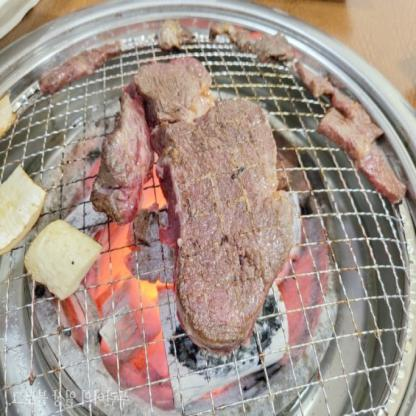Carne: (129, 56, 299, 353), (308, 87, 406, 201), (82, 86, 156, 217), (38, 38, 126, 98)
